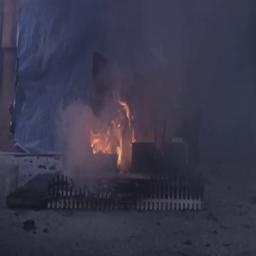fire: (87, 94, 140, 172)
